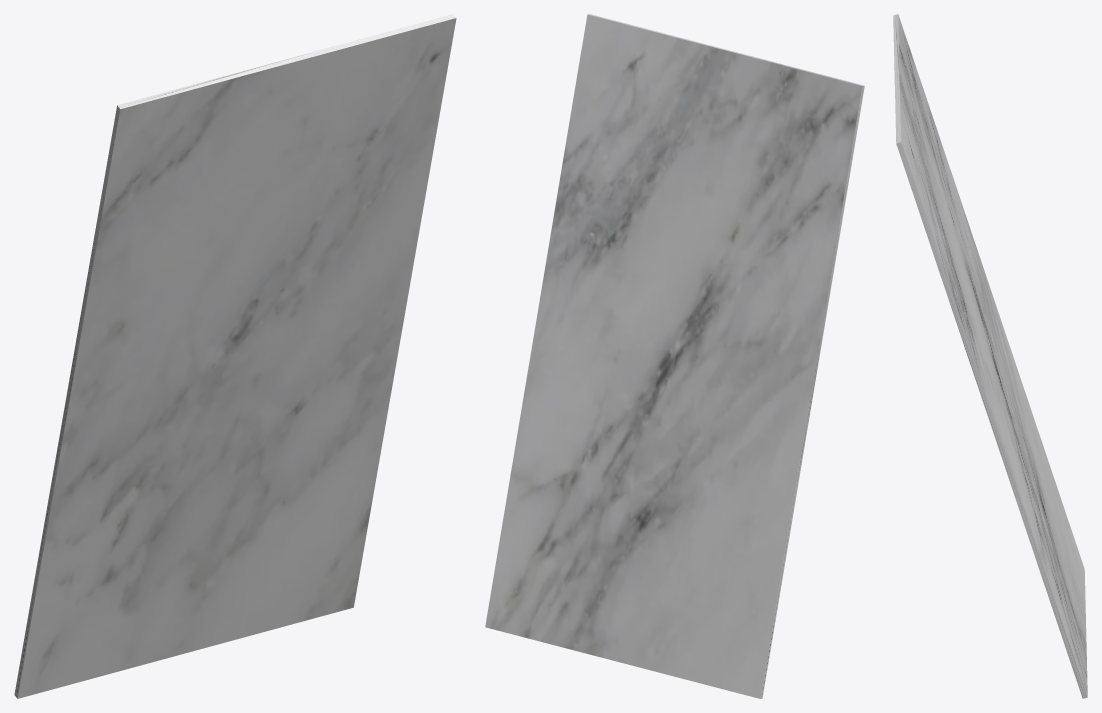
File: marble-slab.glb
The picture shows the model from 3 angles, left to right: view 1: azimuth 30°, elevation 25°; view 2: azimuth 150°, elevation 25°; view 3: azimuth 270°, elevation 25°; orthographic projection. The views are drawn at different scales.
Visible parts, largest first — view 1: Cube.002; view 2: Cube.002; view 3: Cube.002.
Boxes of the visible parts, x1,y1,x2,y2 form: Cube.002: (14, 14, 456, 698); Cube.002: (485, 14, 864, 698); Cube.002: (893, 14, 1087, 698).
Size of the model in its own units: 1.24 by 2.33 by 0.7346.
1 material, 1 textured.
